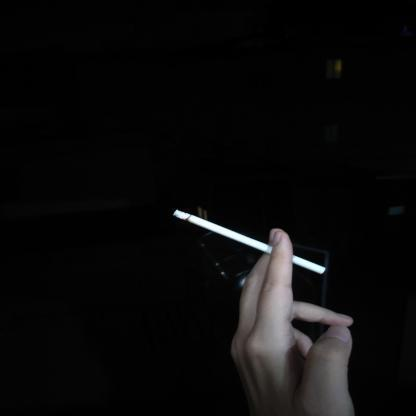cigarette: (170, 208, 328, 276)
